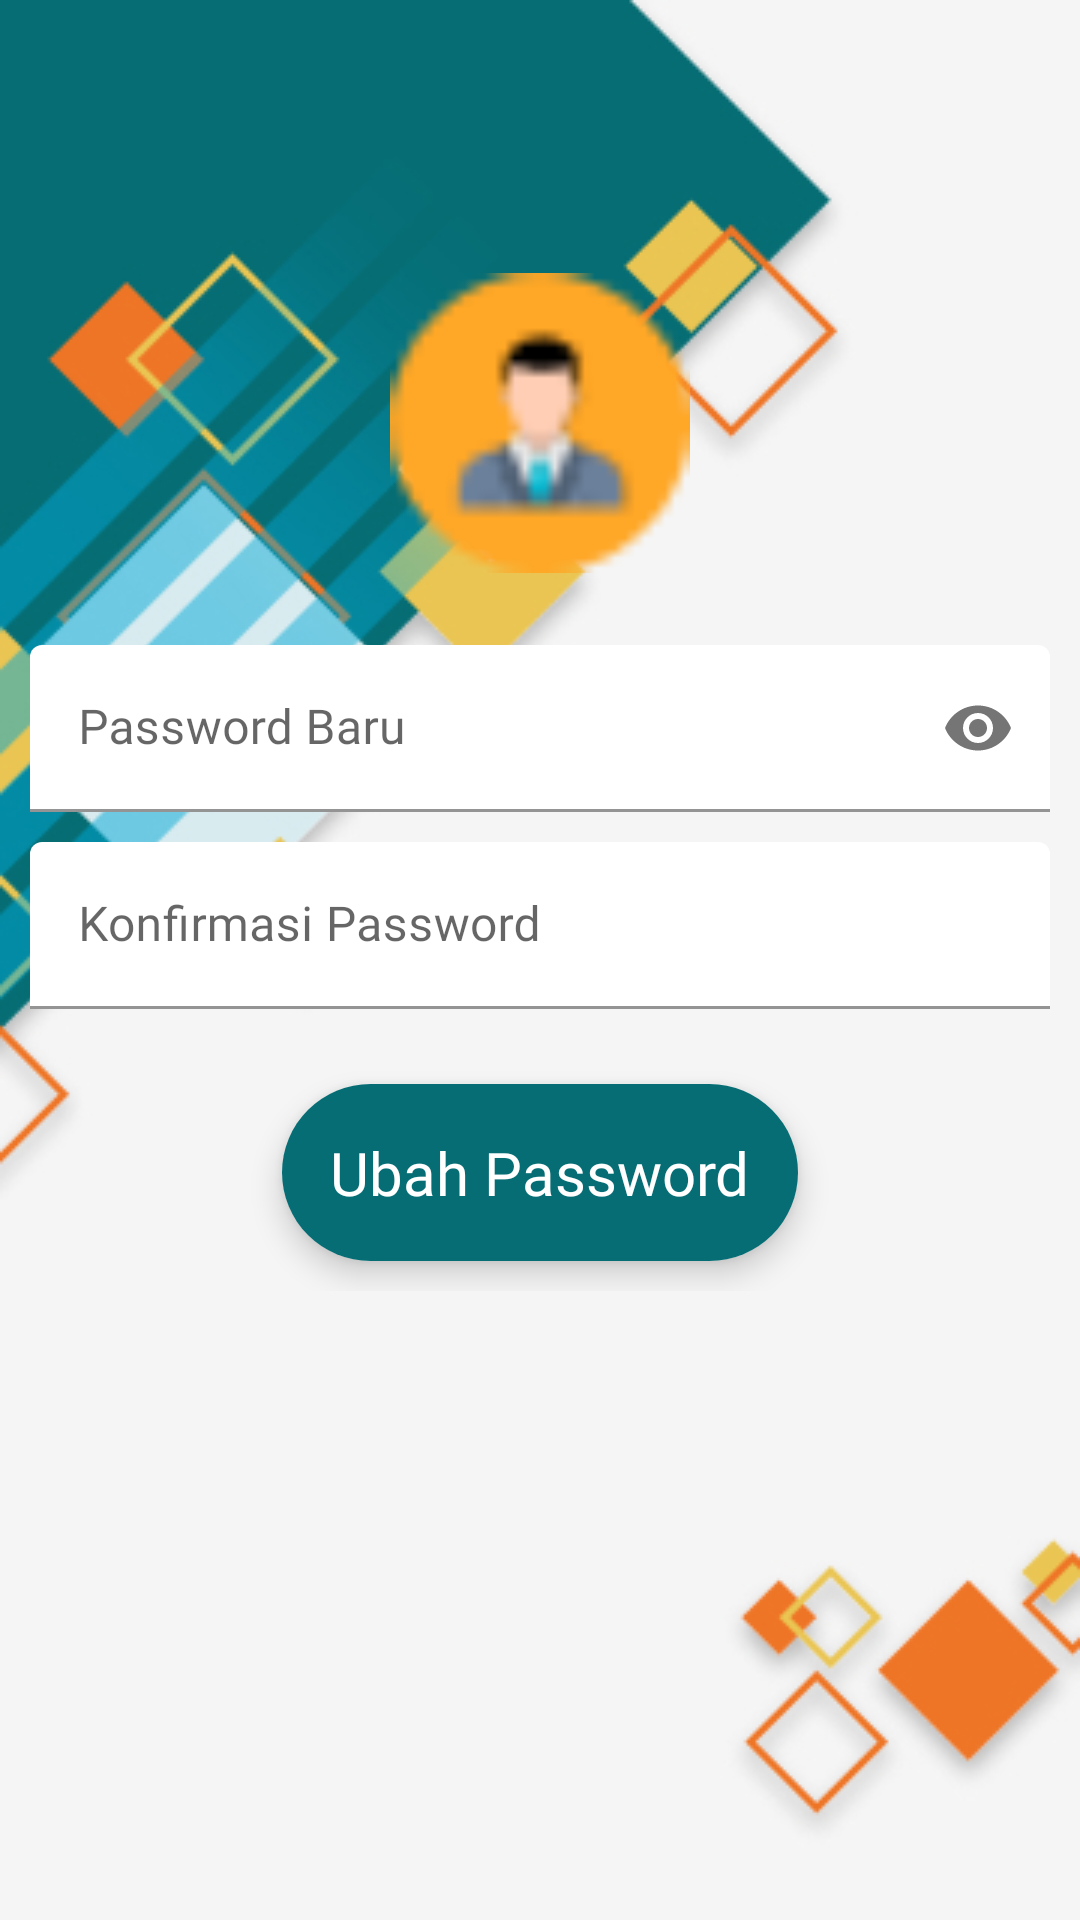

Point at icon controls on the screen. Image size 1080px x 1920px, points as (x,y).
user: (540,423)
